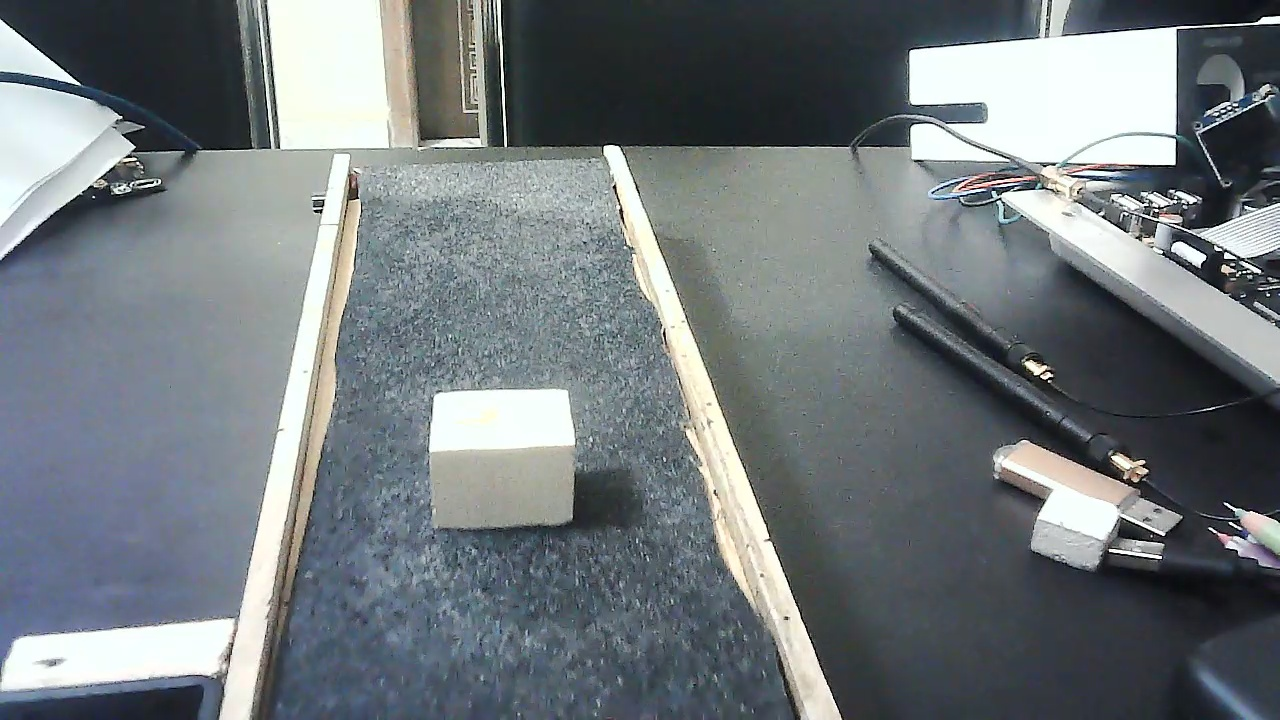Medium: (429, 387, 574, 532)
